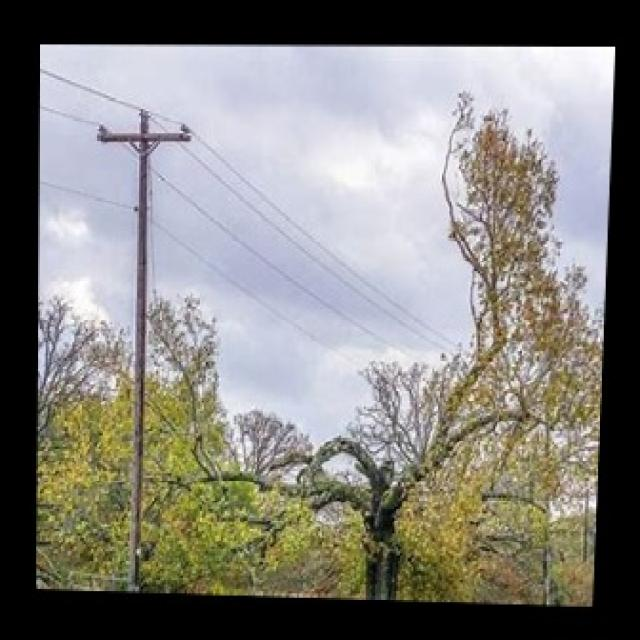utility poles: (89, 51, 200, 594)
